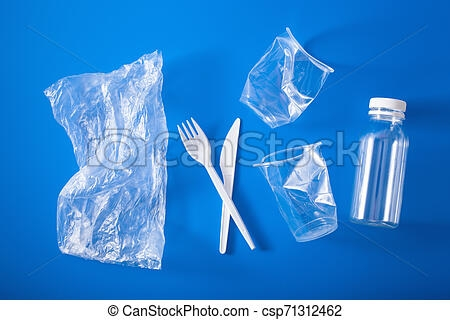plastic: (33, 46, 182, 275), (172, 116, 273, 259), (234, 22, 339, 137), (342, 84, 416, 240), (253, 137, 344, 249)
